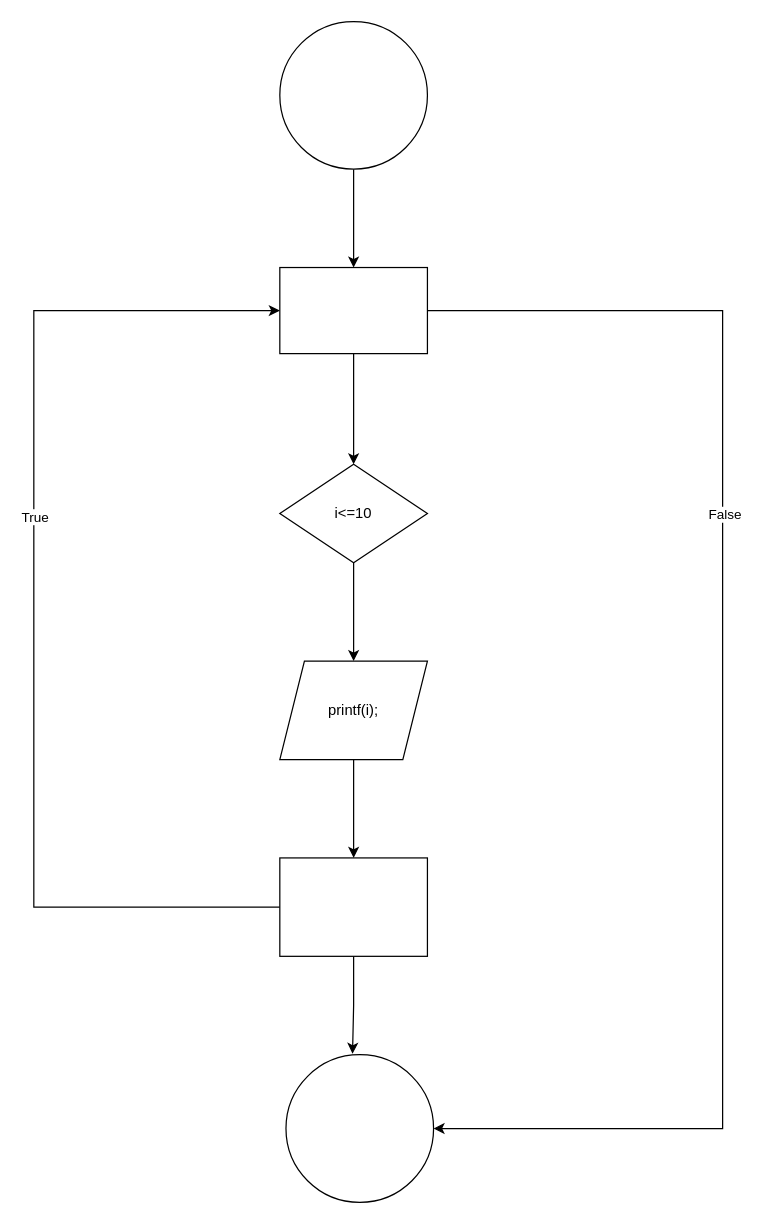
Some shapes in this 763 by 1224 pixel diagram are drawn without their labels. The shapes that lost their labels are listed below. From the top down, each one's box as (x1, y1, x2, y2) in pixels, then its label:
(279, 266, 427, 354): i=1
(279, 857, 427, 956): i++;
